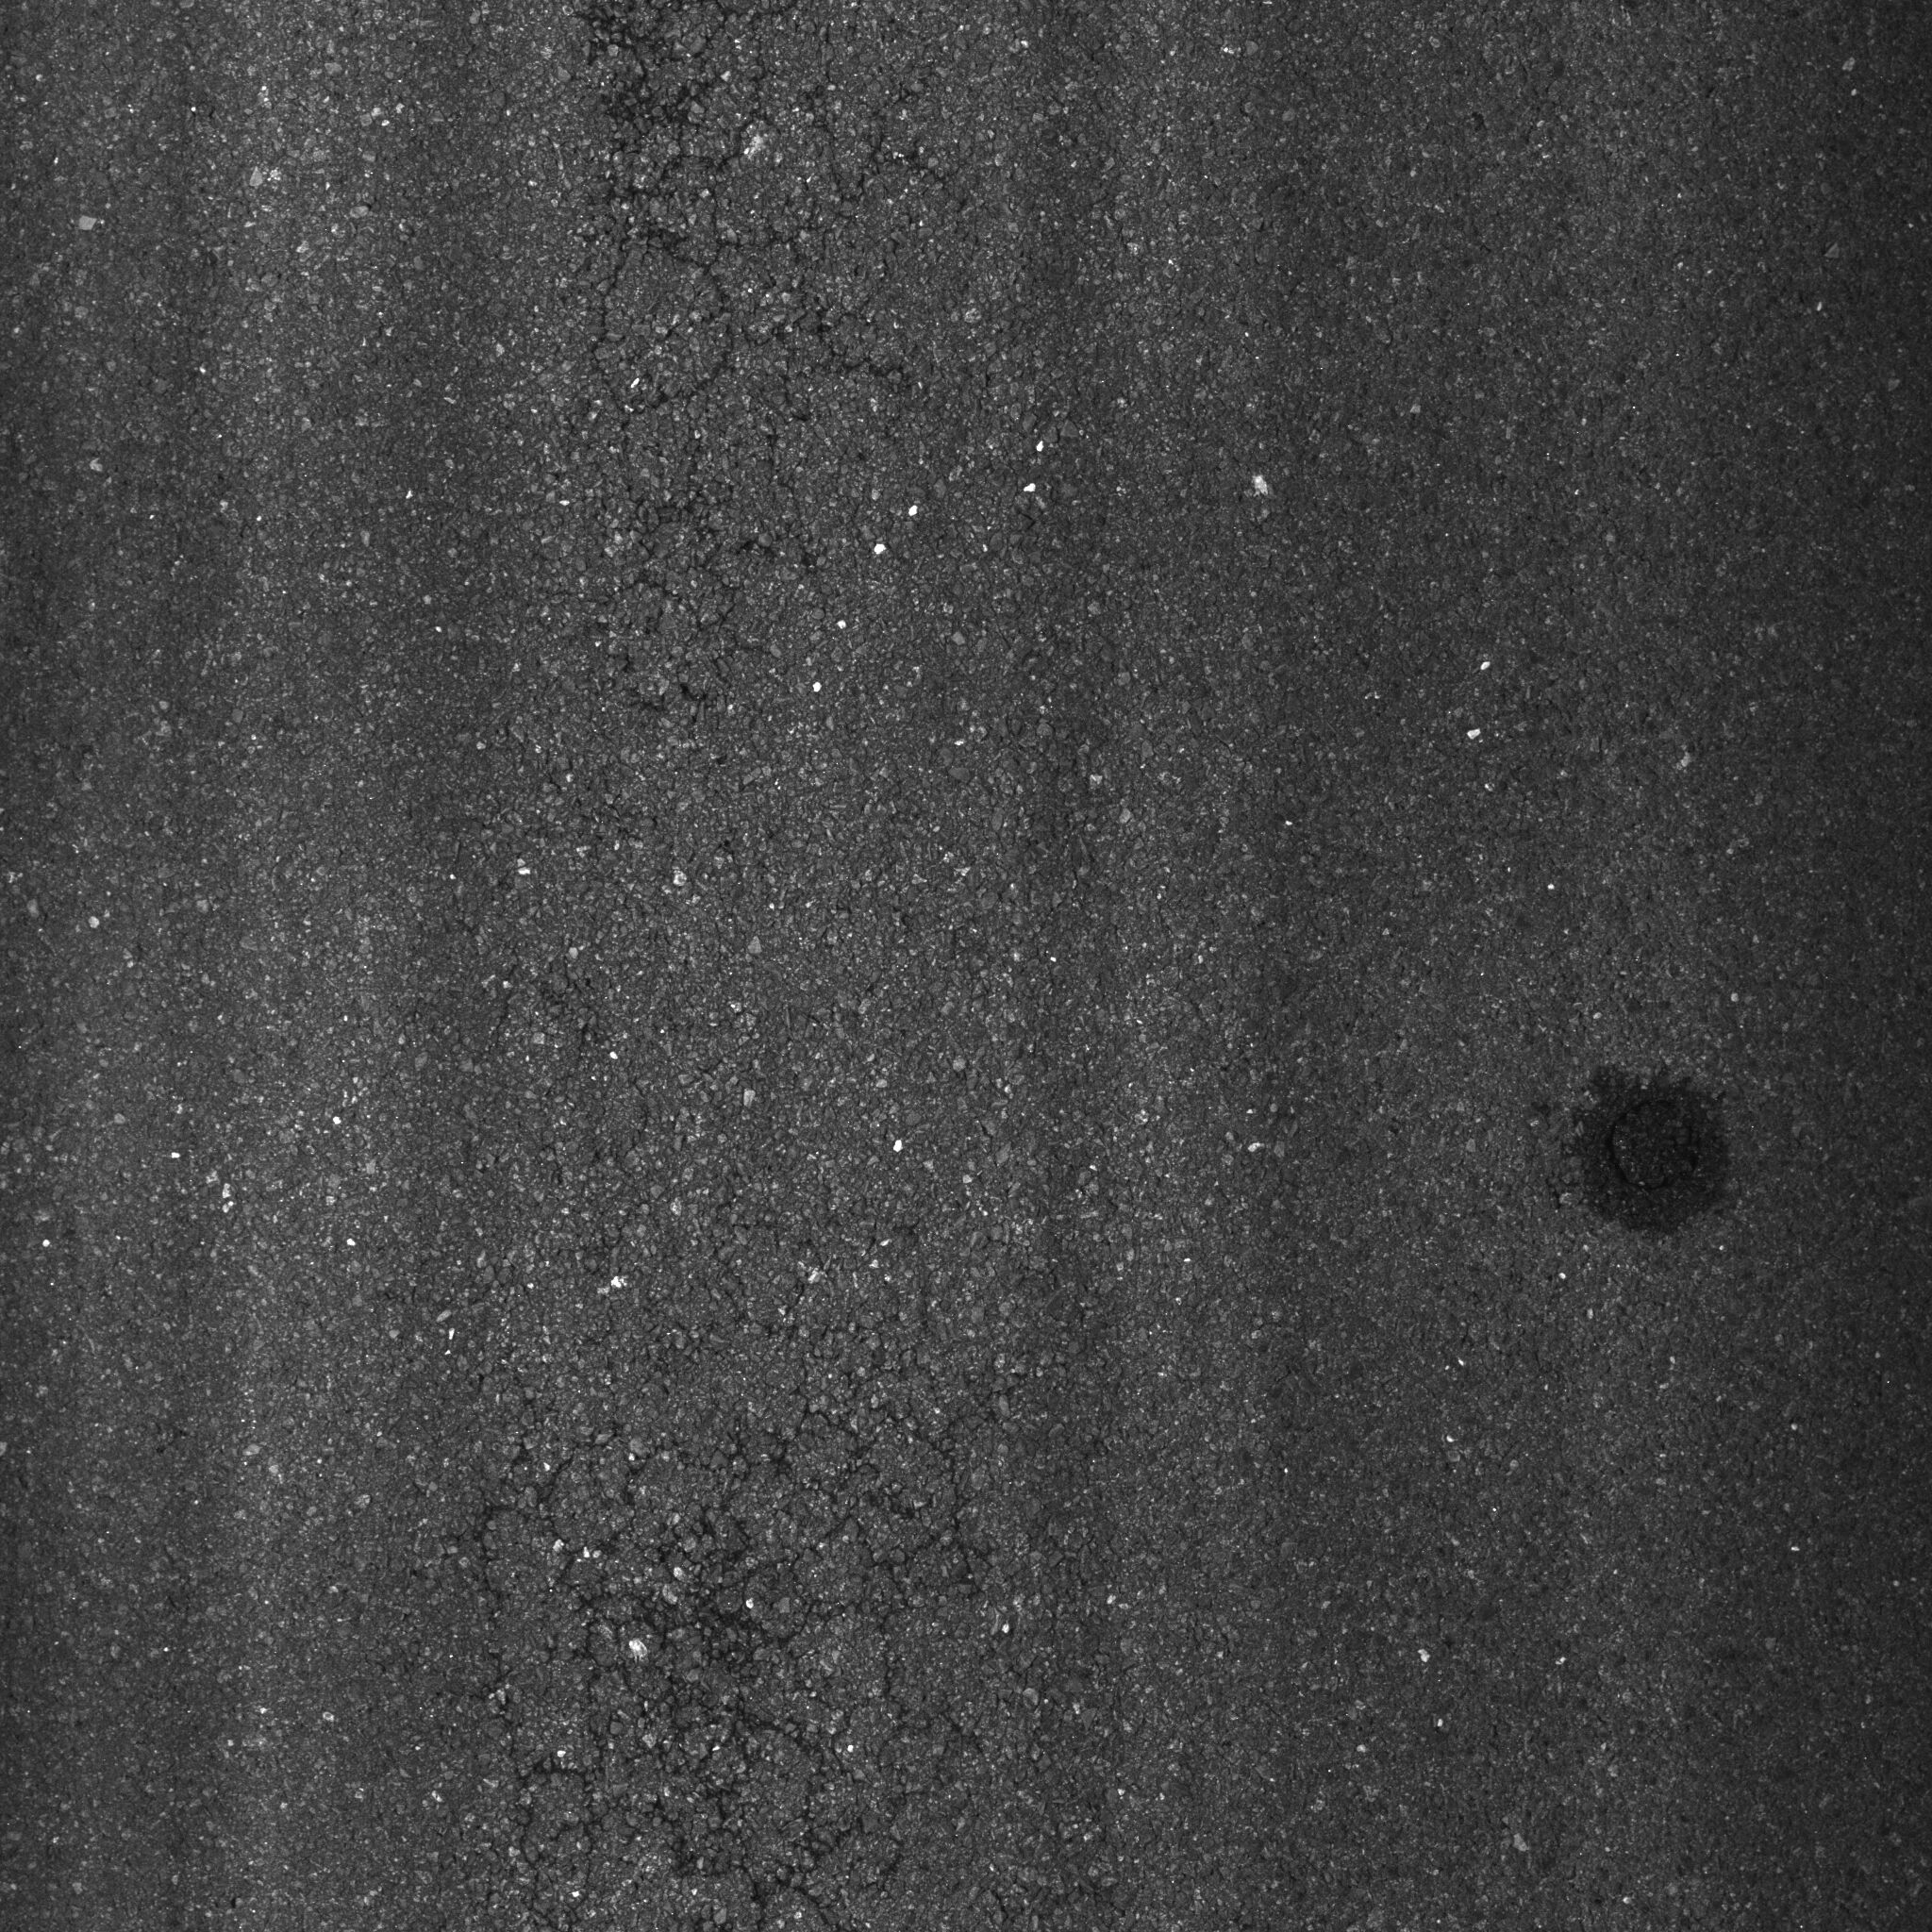alligator: (379, 1277, 1141, 1932), (492, 4, 1100, 821)
